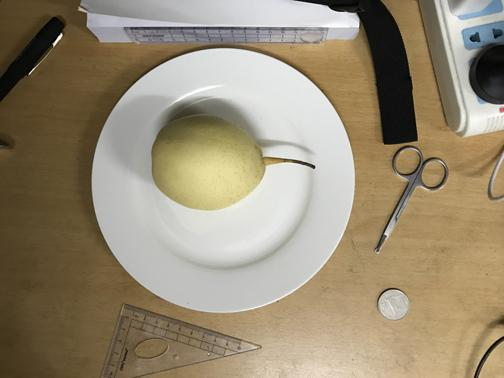coin: (377, 288, 409, 319)
pear: (152, 117, 266, 210)
